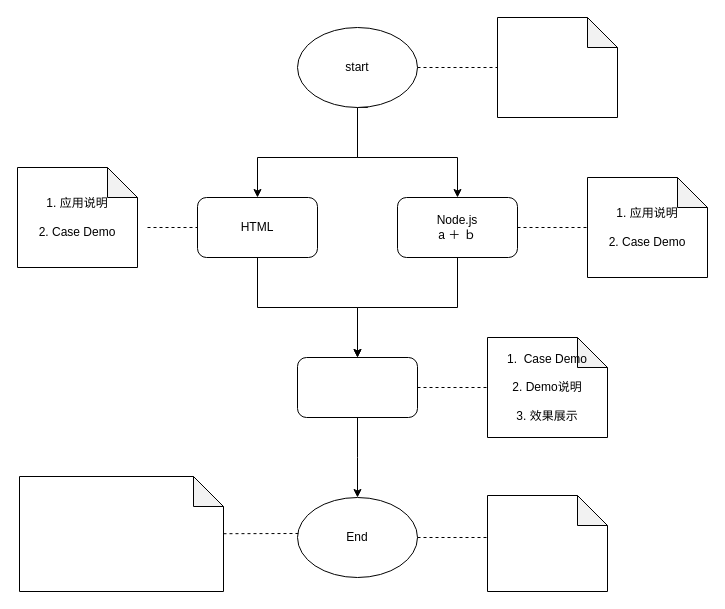
Some shapes in this 725 by 609 pixel diagram are drawn without their labels. Each missing label, with the centre of its shape:
"1. 道长选择 2. 分配钉钉群 3. 创建git repo" belongs at point (557, 67).
"1. 释放资源（关闭钉钉群） 2. 升级身份（本case的道长身份） 3. 升级case（或另外开启新case）" belongs at point (121, 534).
"Web a + b" belongs at point (357, 387).
"条件：code review 通过" belongs at point (547, 543).
